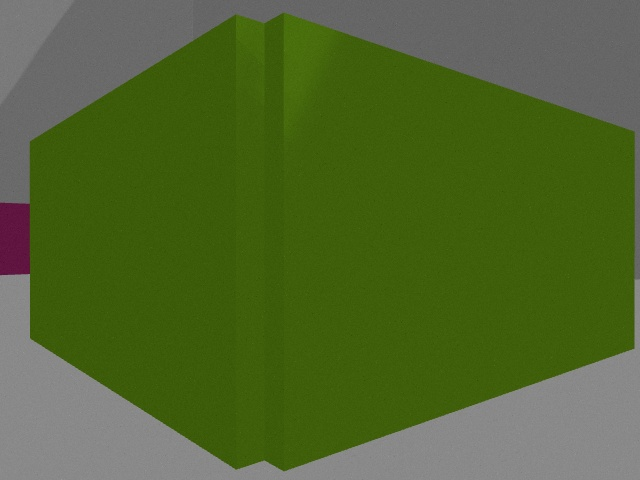green_drop_zone: (30, 13, 635, 471)
red_drop_zone: (0, 203, 30, 275)
